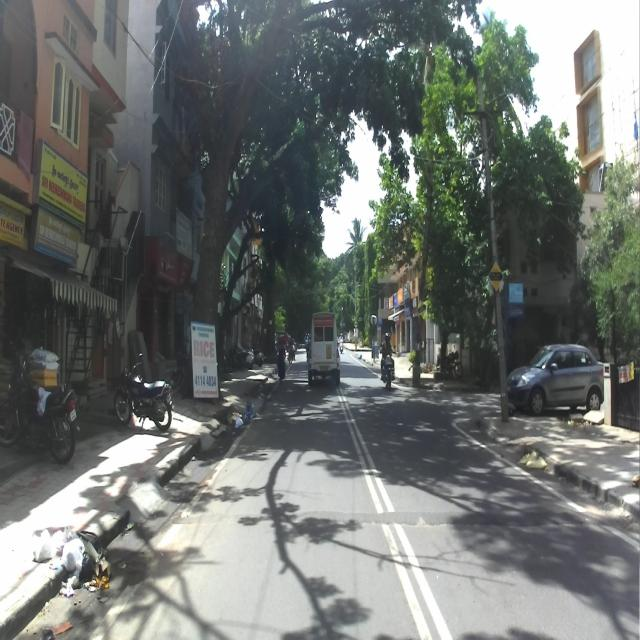car: (504, 342, 605, 416)
mini-bus: (306, 309, 341, 389)
motorcycle: (112, 352, 175, 436), (380, 350, 396, 389)
